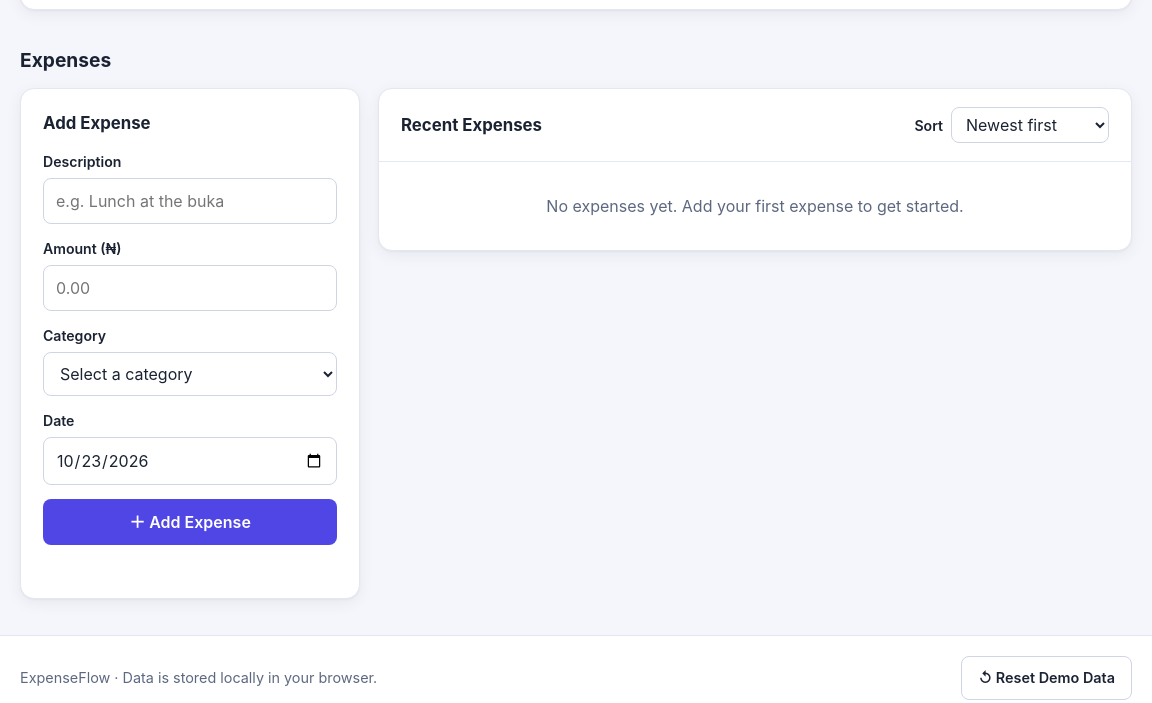
App › reset demo data › restores the original sample data after confirmation
(page scrolled)
Expected: the text "No expenses yet. Add your first expense to get started." is shown, [546,196,964,216]
Click the button "↺ Reset Demo Data".
click(1047, 678)  # box [962,656,1132,700]
(page scrolled)
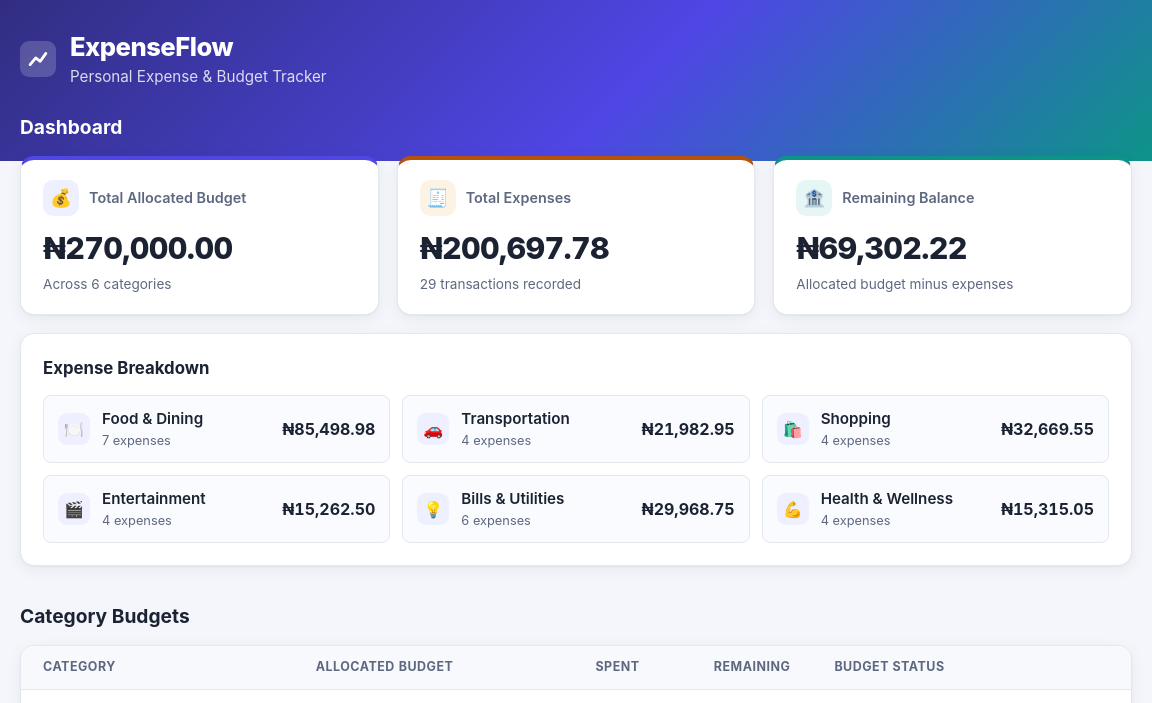
Expected: the text "No expenses yet" is gone
Expected: the text "₦270,000.00" is shown, [43,230,232,266]
